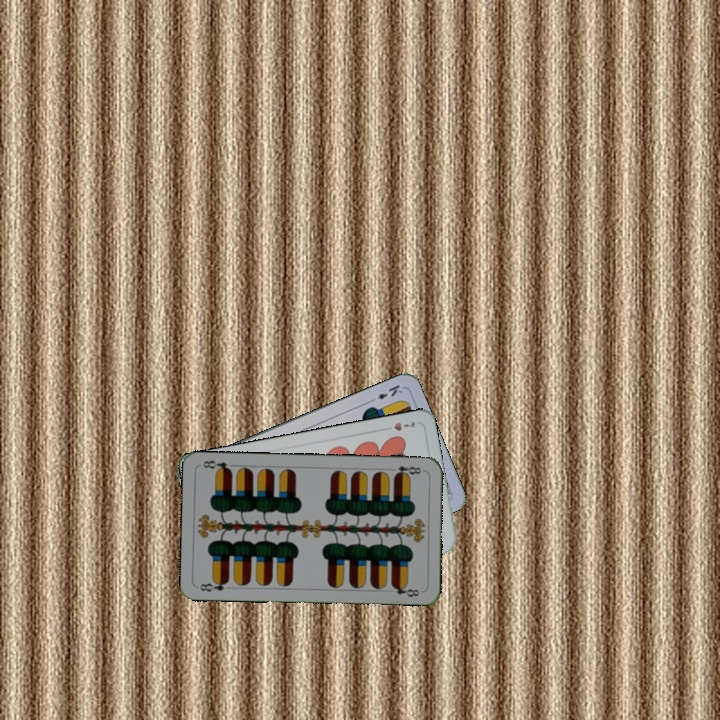E8: (386, 462, 426, 479), (195, 576, 232, 594)
EK: (366, 381, 405, 405)
H7: (379, 418, 418, 433)
